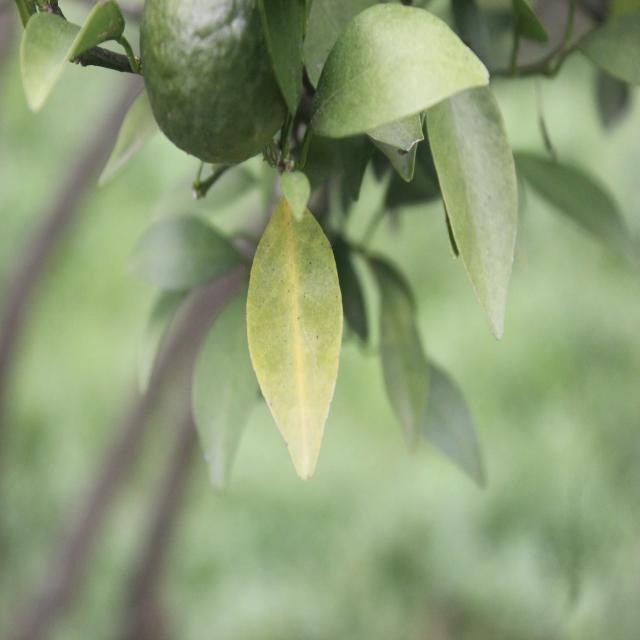blackspot: (248, 230, 346, 444), (460, 140, 506, 234)
